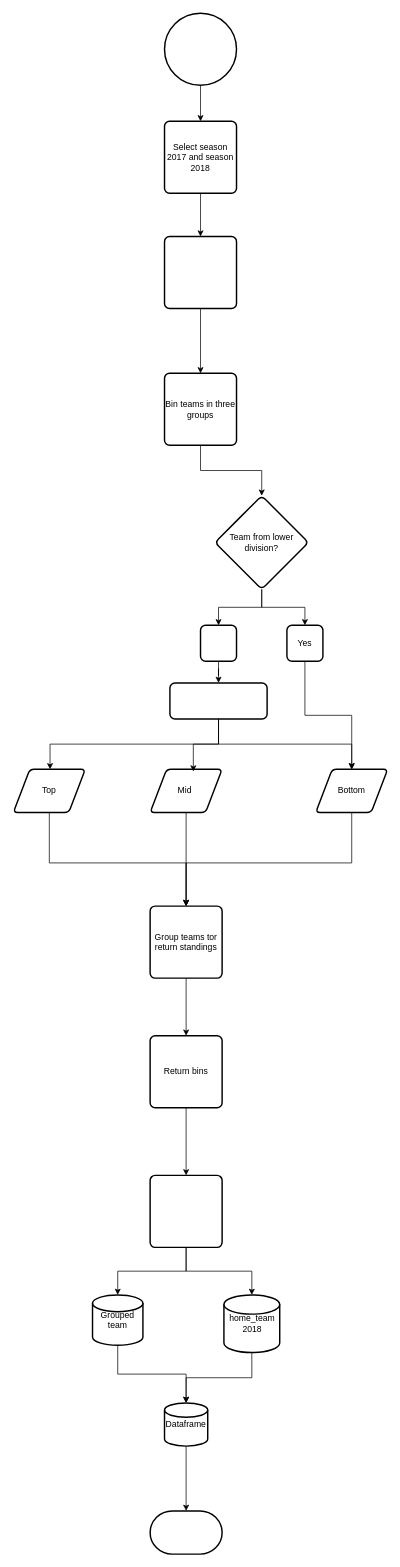
This 400x1567 diagram has some shape labels left out. Each missing label, with the box of its shape:
Calculate: (169, 682, 267, 719)
End: (149, 1510, 222, 1554)
Filter to season 2017: (163, 235, 237, 309)
Merge data: (149, 1174, 222, 1248)
No: (199, 624, 237, 662)
Start: (163, 12, 237, 86)
